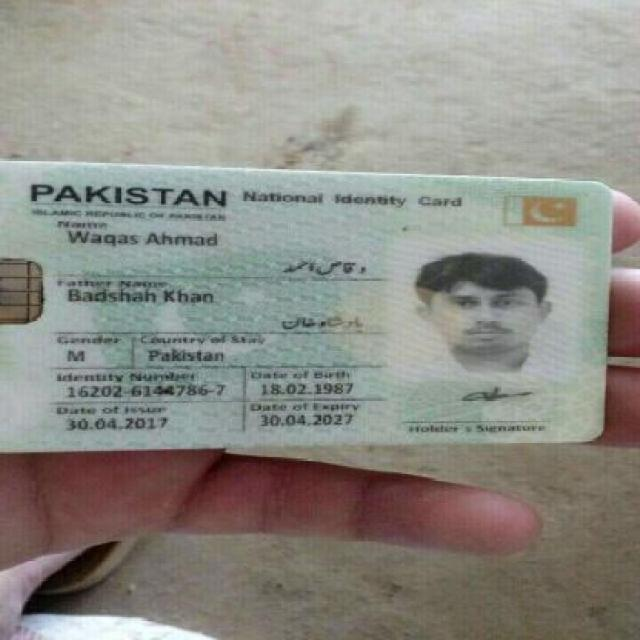Front: (3, 152, 629, 456)
